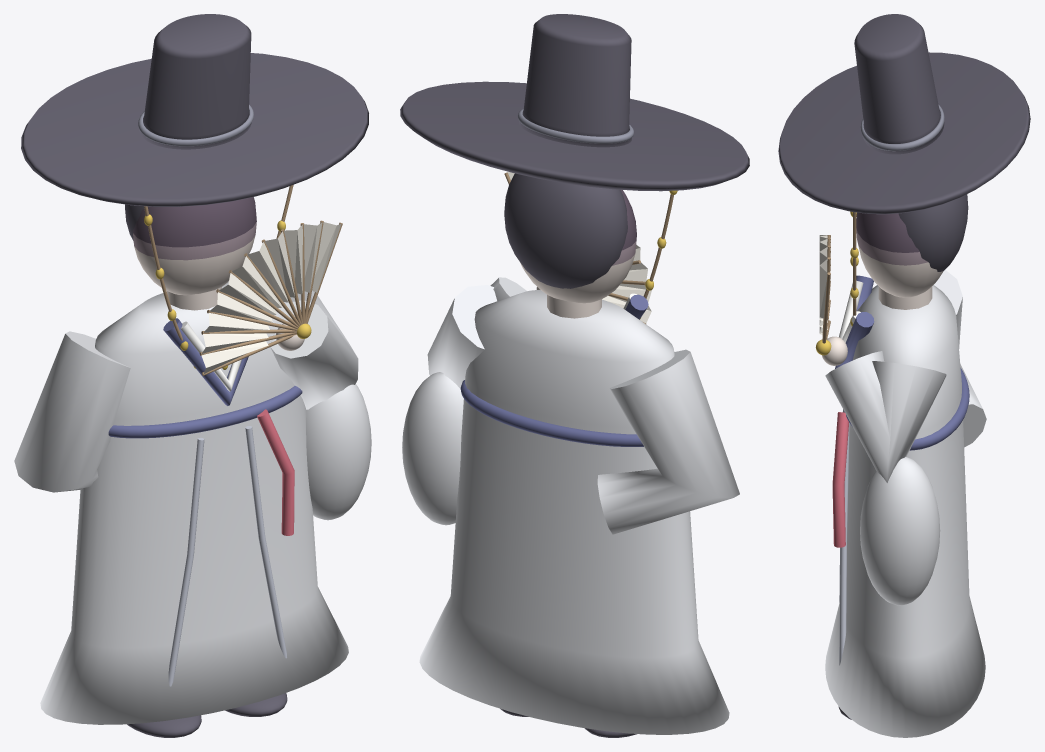
The model's file is conch_jeonwoochi_a_behind_2_-1.glb.
3 renders of one model, left to right at view 1: azimuth 30°, elevation 25°; view 2: azimuth 150°, elevation 25°; view 3: azimuth 270°, elevation 25°, orthographic. The views are drawn at different scales.
Bounding box in the file's own units: 28.25 × 55.23 × 18.85.
